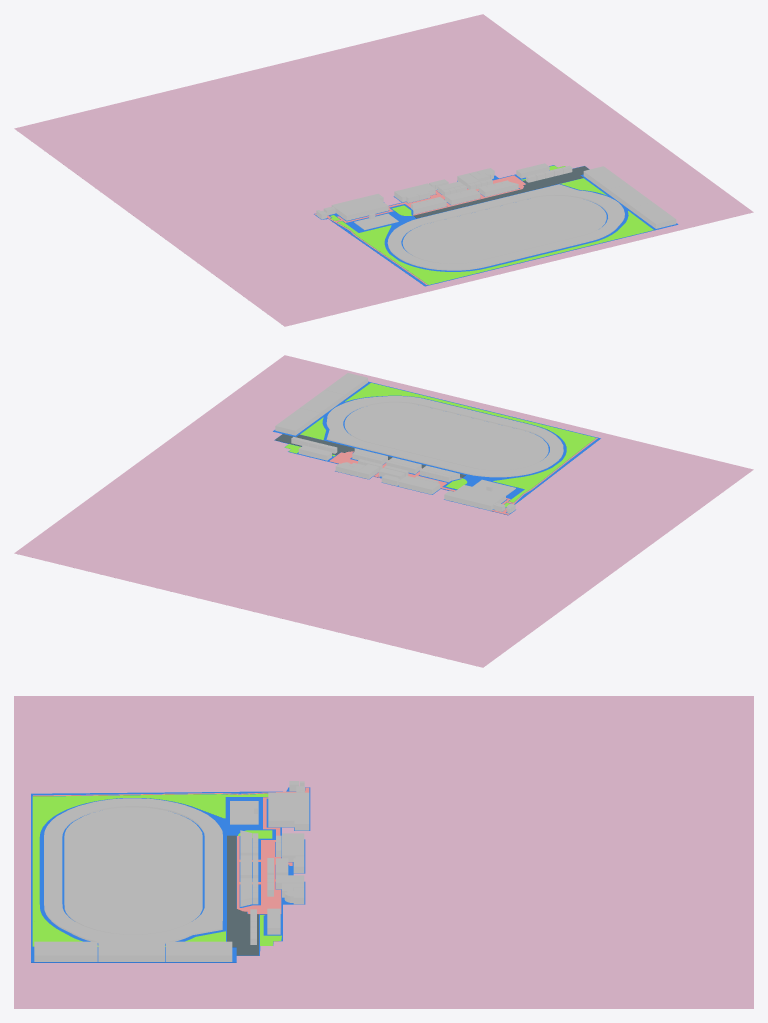
The model's file is njc-b3-v6-8-5.glb.
3 views of the same model, one above another, from view 1: azimuth 30°, elevation 25°; view 2: azimuth 150°, elevation 25°; view 3: azimuth 270°, elevation 25° (orthographic). The views are drawn at different scales.
Visible parts, largest first — view 1: Grey, Field, Track, None, Grass, Base, Drive, Grandstand, ISH, Foot; view 2: Grey, Field, Track, None, Grass, Base, ISH, Foot, Grandstand; view 3: Grey, Field, Track, None, Base, Grass, Foot, Drive, ISH, Grandstand, Basketball Court.
Part boxes in pixels (x1,y1,x2,y2): Grey: (14,14,753,326); Field: (402,195,606,263); Track: (387,184,624,270); None: (394,163,676,228); Grass: (330,165,653,284); Base: (314,165,678,286); Drive: (413,166,589,218); Grandstand: (413,182,518,214); ISH: (331,193,388,220); Foot: (314,175,525,285); Grey: (14,355,753,667); Field: (344,402,548,470); Track: (326,396,563,477); None: (275,373,450,494); Grass: (284,383,596,507); Base: (273,381,600,515); ISH: (444,485,505,510); Foot: (329,438,597,514); Grandstand: (354,448,459,480); Grey: (14,696,753,1008); Field: (64,807,202,934); Track: (44,798,222,943); None: (34,833,304,961); Base: (31,787,310,962); Grass: (32,793,281,946); Foot: (33,787,309,914); Drive: (227,835,258,955); ISH: (268,792,309,830); Grandstand: (240,830,252,906); Basketball Court: (230,801,258,824).
Size of the model in its own units: 19.96 by 0.2 by 19.96.
